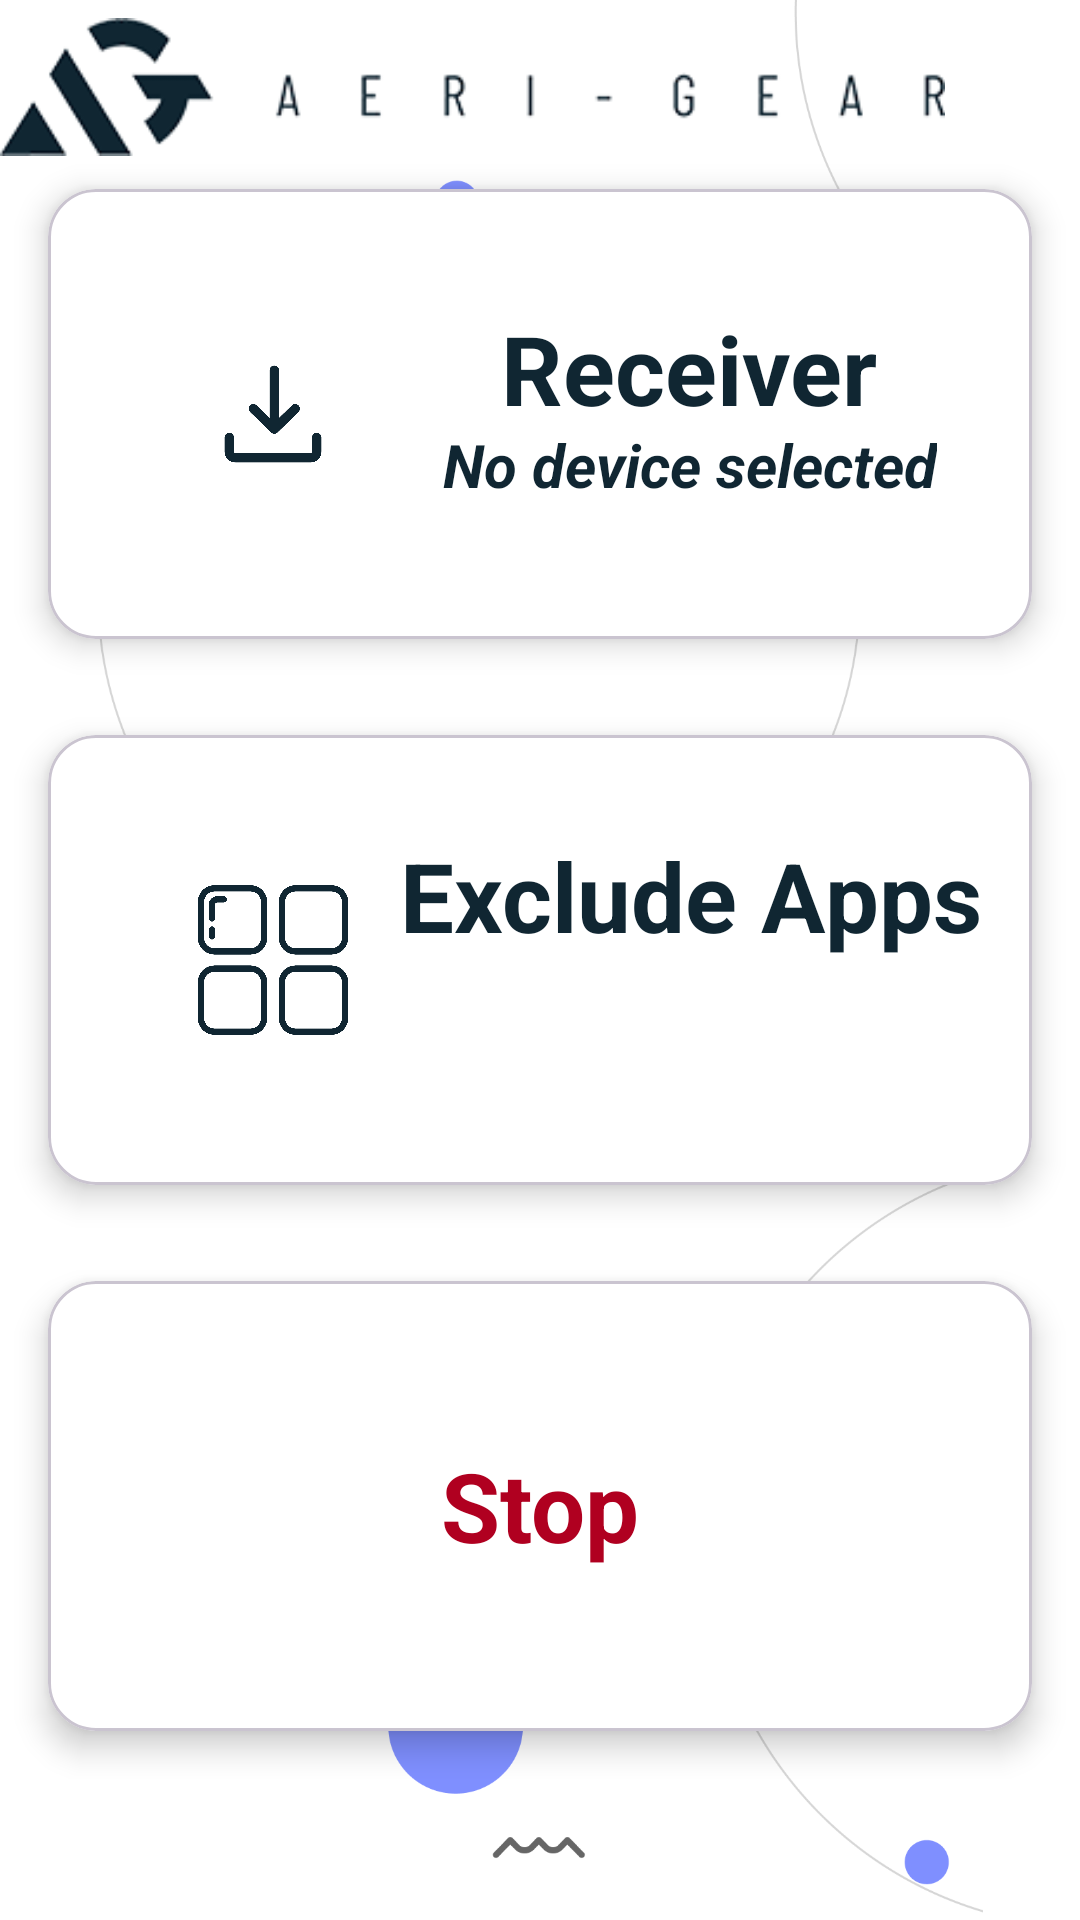

Named icons in this screenshot (1080 × 1920) and their bounding boxes, (x1, y1, x2, y2):
Receiver Icon: (224, 365, 322, 463)
